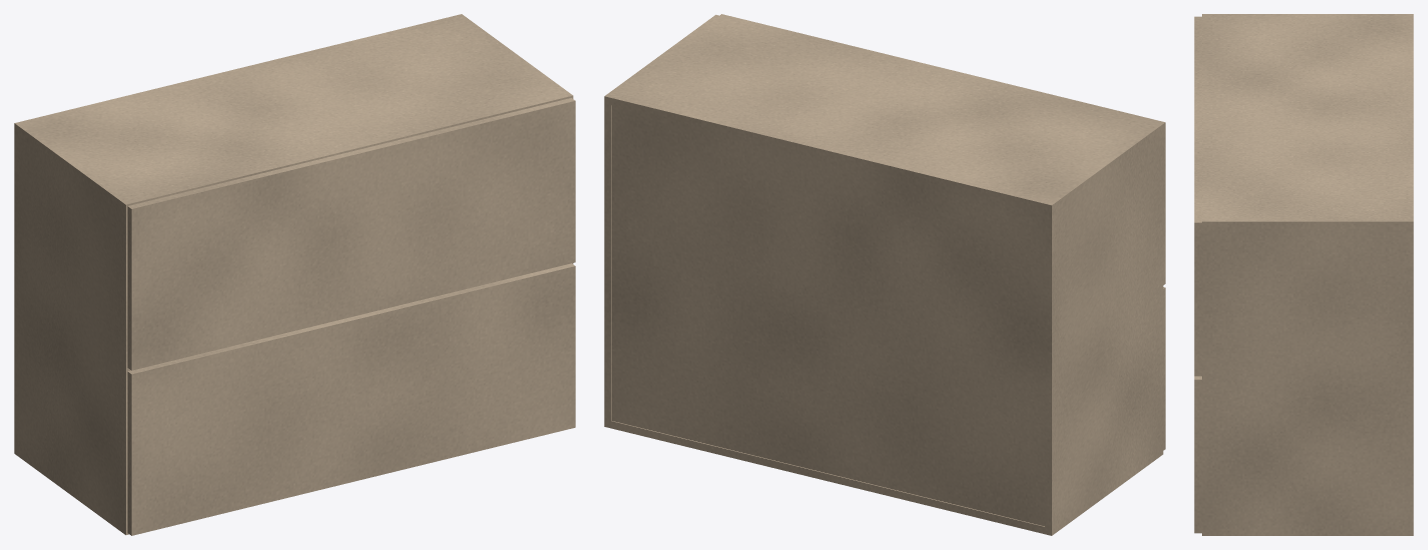
Rendered from Stock__ManualShelfNorth7__Carton005.glb.
3 views of the same model, side by side, from view 1: azimuth 30°, elevation 25°; view 2: azimuth 150°, elevation 25°; view 3: azimuth 270°, elevation 25° (orthographic). The views are drawn at different scales.
Visible parts, largest first — view 1: /World/Stock/ManualShelfNorth7/Carton005; view 2: /World/Stock/ManualShelfNorth7/Carton005; view 3: /World/Stock/ManualShelfNorth7/Carton005.
Part boxes in pixels (<box>): /World/Stock/ManualShelfNorth7/Carton005: <box>14,14,575,535</box>; /World/Stock/ManualShelfNorth7/Carton005: <box>604,14,1165,535</box>; /World/Stock/ManualShelfNorth7/Carton005: <box>1194,14,1413,535</box>.
Size of the model in its own units: 0.255 by 0.1808 by 0.114.
Materials: 2 (1 with a texture image).
